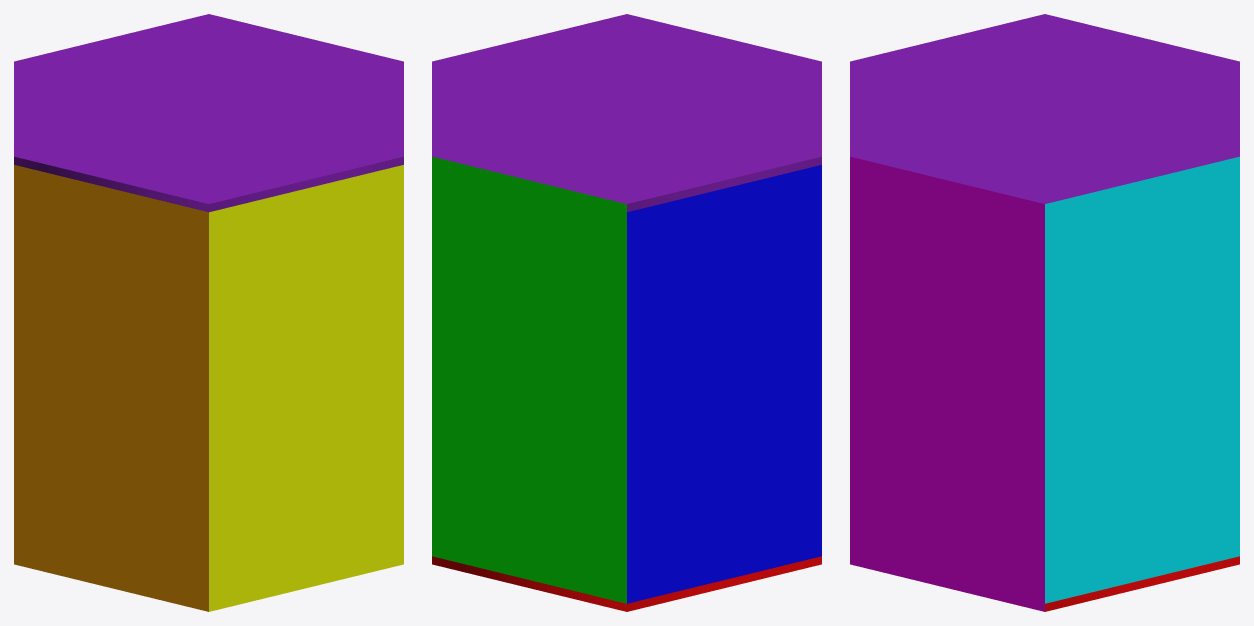
Rendered from hexagono_plegado.glb.
The picture shows the model from 3 angles, left to right: view 1: azimuth 30°, elevation 25°; view 2: azimuth 150°, elevation 25°; view 3: azimuth 270°, elevation 25°; orthographic projection.
Parts seen in each view (by area): view 1: lado, lado005, tapa; view 2: lado003, lado004, tapa, base; view 3: lado001, lado002, tapa, base.
Boxes of the visible parts, x1,y1,x2,y2 form: lado: (209, 165, 403, 611); lado005: (14, 165, 208, 611); tapa: (14, 14, 403, 212); lado003: (432, 156, 626, 603); lado004: (627, 165, 821, 603); tapa: (432, 14, 821, 212); base: (432, 556, 821, 611); lado001: (850, 156, 1044, 611); lado002: (1045, 156, 1239, 603); tapa: (850, 14, 1239, 203); base: (1045, 556, 1239, 611).
Bounding box in the file's own units: 1.27 × 1.27 × 1.1.
